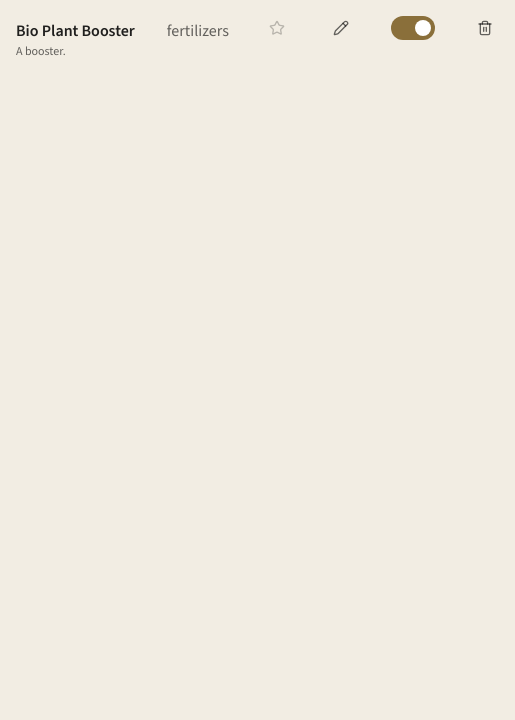
Test case: CustomProductRow — bilingual English fields › pre-fills the English prose textareas from the product's existing En values
Click the button named "edit" at (341, 28), box [325, 12, 357, 44]
(page scrolled)
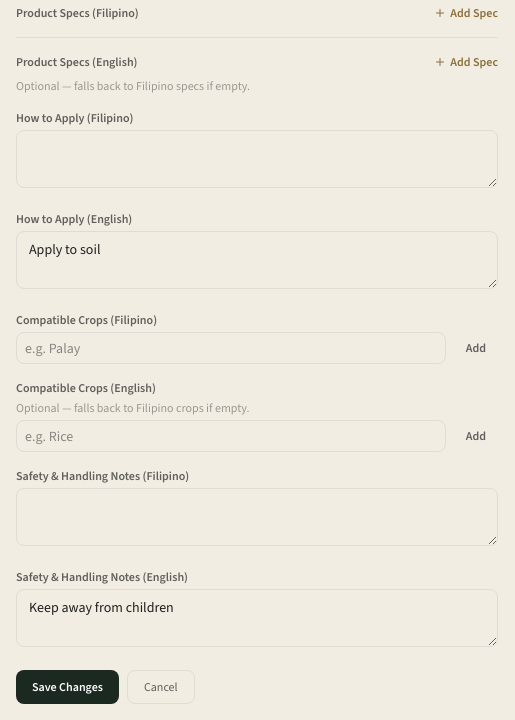
Expected: the text box showing "Apply to soil" below "How to Apply (English)" is shown, [16, 231, 498, 289]
Expected: the text box showing "Keep away from children" below "Safety & Handling Notes (English)" is shown, [16, 589, 498, 647]
